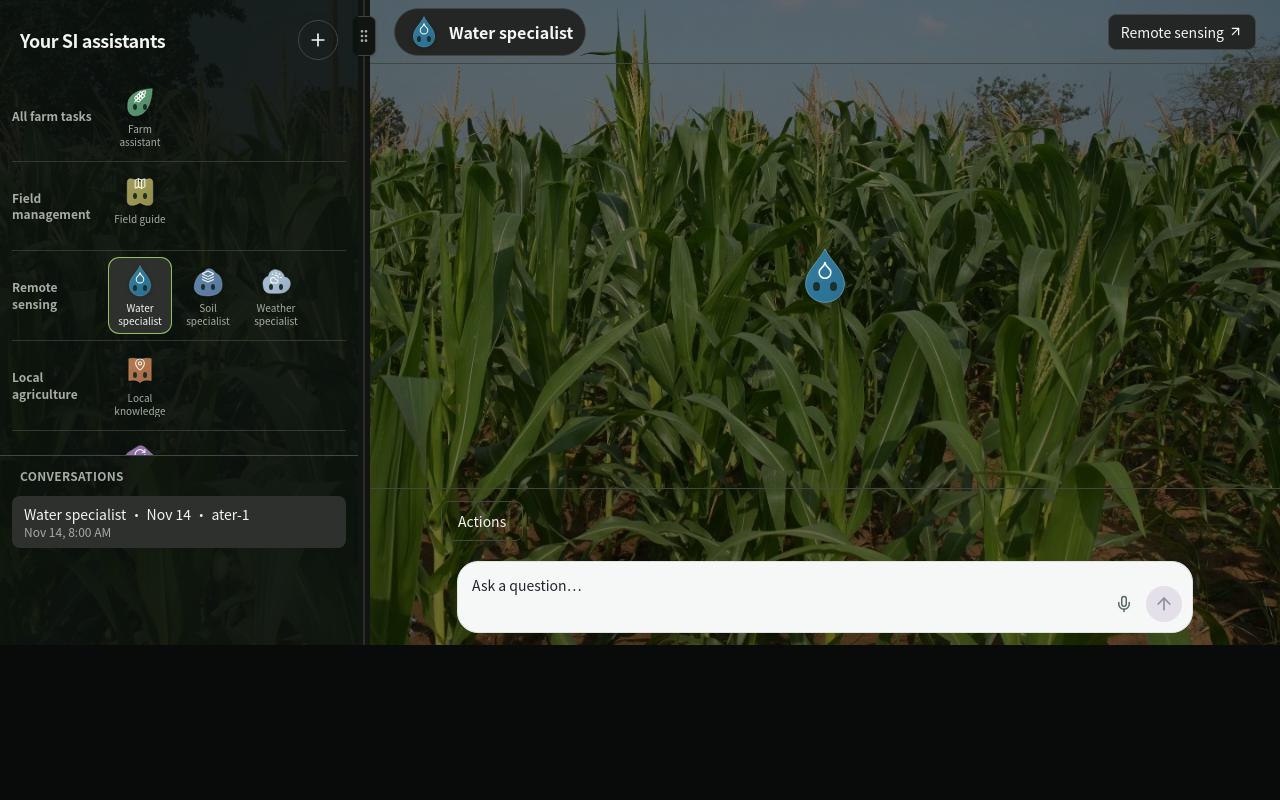
Test: keeps history separate for water and soil specialists in the same module
The image size is (1280, 800).
Check: the button "Water specialist · Nov 14 · ater-1 Nov 14, 8:00 AM" is shown, box [12,496,346,548]
Click the button "Soil specialist": (208,296) [176,257,240,334]
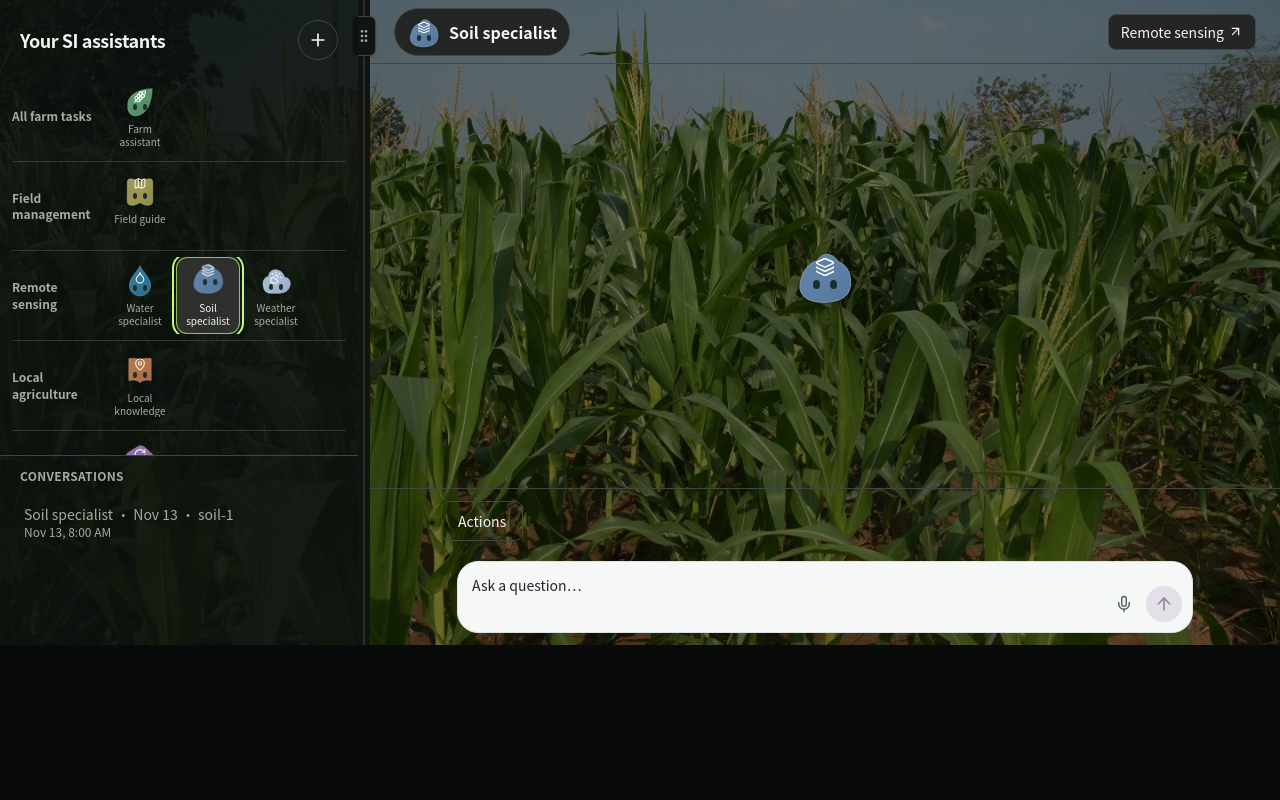
Check: the button "Soil specialist · Nov 13 · soil-1 Nov 13, 8:00 AM" is shown, box [12,496,346,548]
